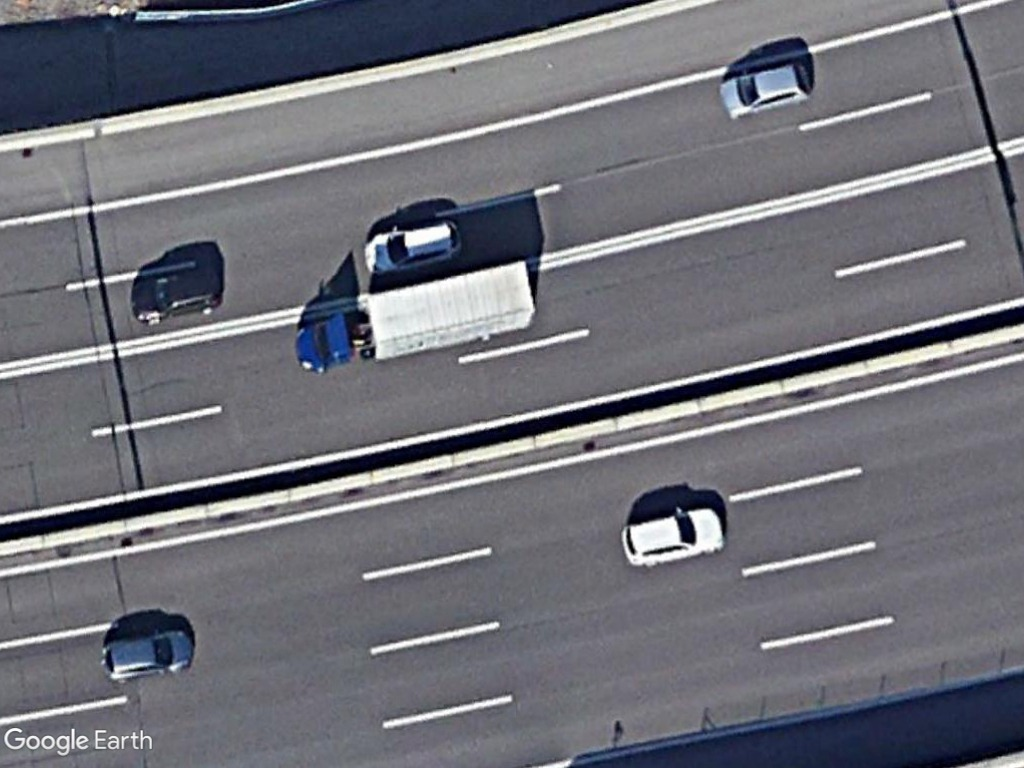car: (621, 505, 728, 570), (127, 262, 226, 329), (717, 60, 816, 119), (98, 626, 198, 680)
longvehicle: (293, 257, 539, 380)
